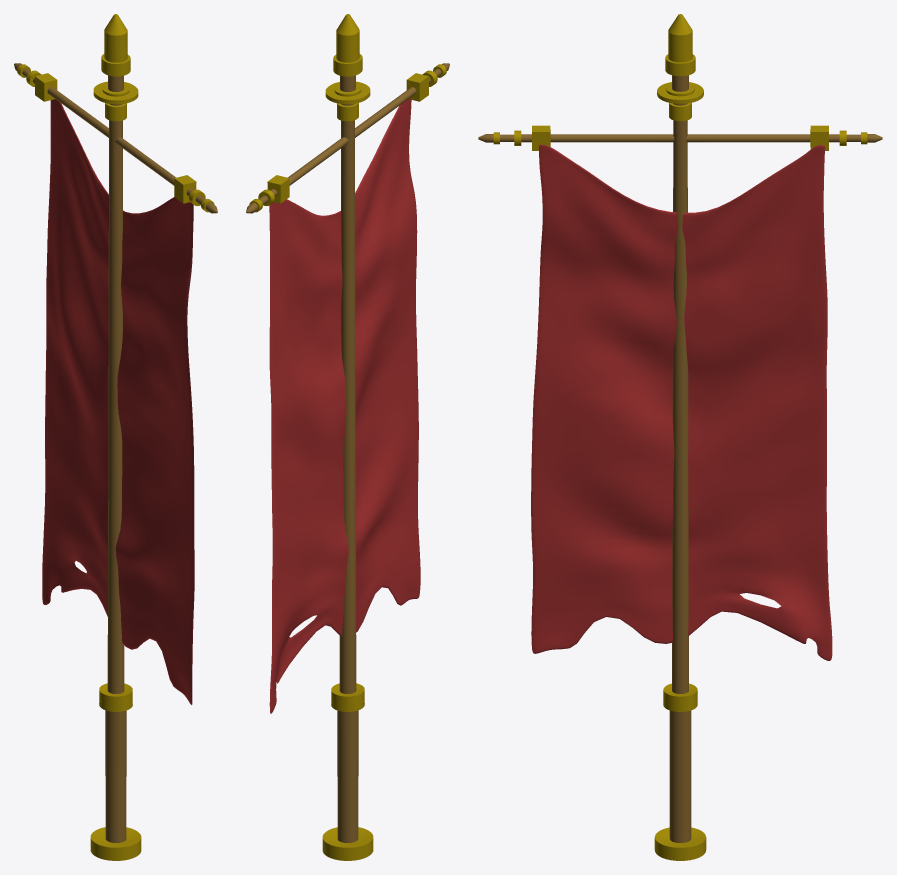
File: medieval_banner_v2.fbx
3 views of the same model, side by side, from view 1: azimuth 30°, elevation 25°; view 2: azimuth 150°, elevation 25°; view 3: azimuth 270°, elevation 25° (orthographic).
Parts seen in each view (by area): view 1: Plane.004, Cylinder.004; view 2: Plane.004, Cylinder.004; view 3: Plane.004, Cylinder.004.
Boxes of the visible parts, x1,y1,x2,y2 form: Plane.004: [42, 99, 194, 704]; Cylinder.004: [14, 14, 217, 860]; Plane.004: [269, 99, 420, 713]; Cylinder.004: [246, 14, 449, 860]; Plane.004: [531, 144, 832, 660]; Cylinder.004: [478, 14, 882, 860].
Size of the model in its own units: 1.07 by 19.58 by 8.59.
